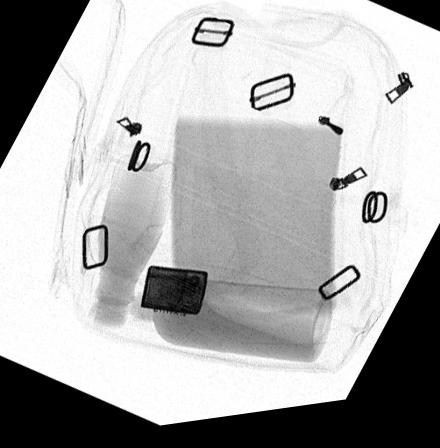Lighter: (139, 267, 208, 320)
